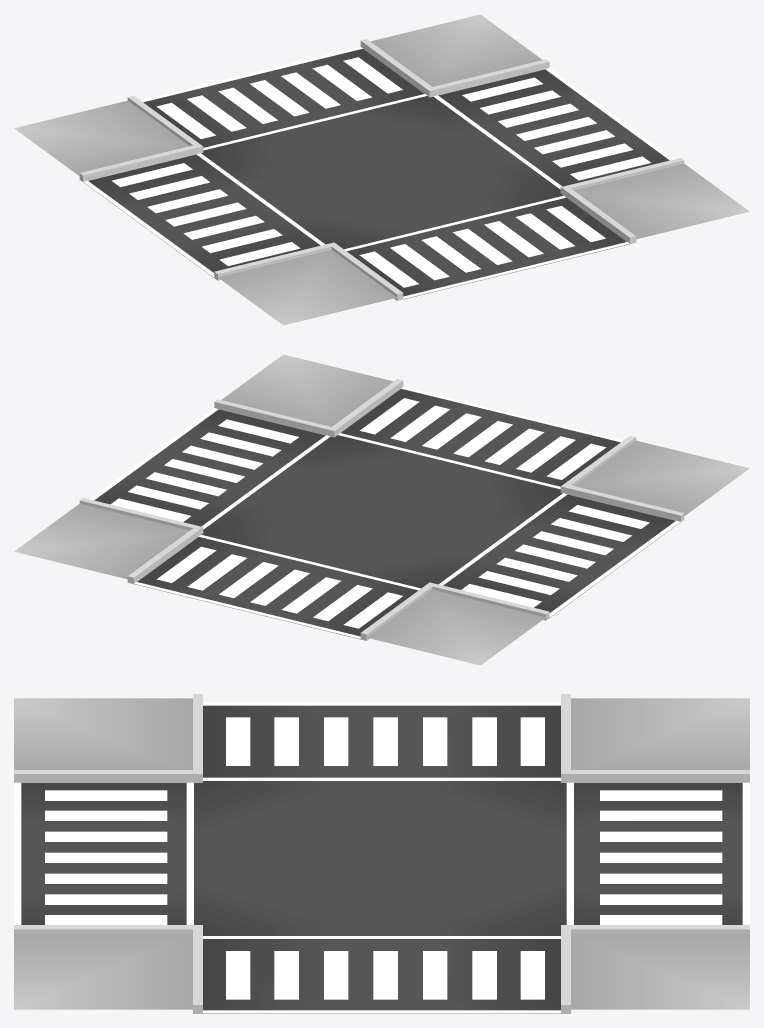
The model's file is city2-road-029.glb.
The picture shows the model from 3 angles, top to bottom: view 1: azimuth 30°, elevation 25°; view 2: azimuth 150°, elevation 25°; view 3: azimuth 270°, elevation 25°; orthographic projection. The views are drawn at different scales.
Parts seen in each view (by area): view 1: road_029; view 2: road_029; view 3: road_029.
Part boxes in pixels (x1,y1,x2,y2): road_029: (14,14,749,325); road_029: (14,354,749,665); road_029: (14,694,749,1013).
Size of the model in its own units: 15 by 0.2 by 15.
1 material, 1 textured.
